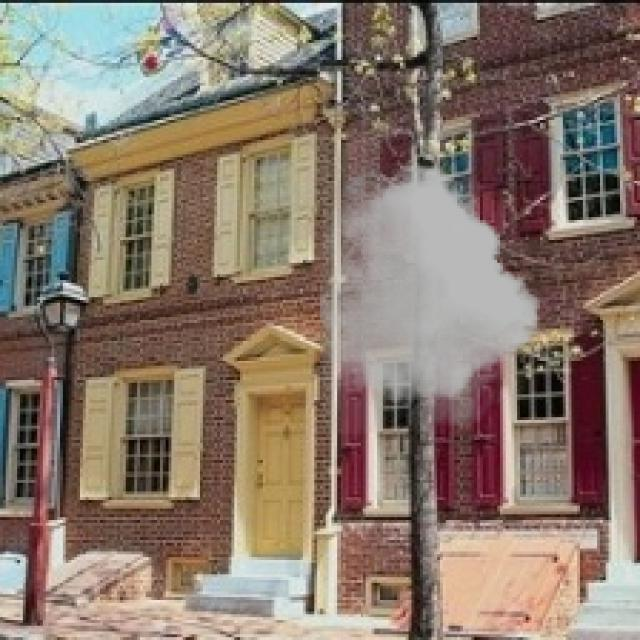smoke: (320, 160, 540, 434)
